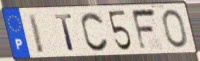5: (106, 9, 133, 53)
C: (80, 10, 110, 53)
F: (130, 7, 158, 53)
I: (26, 12, 46, 56)
O: (161, 8, 189, 50)
T: (53, 13, 76, 53)
